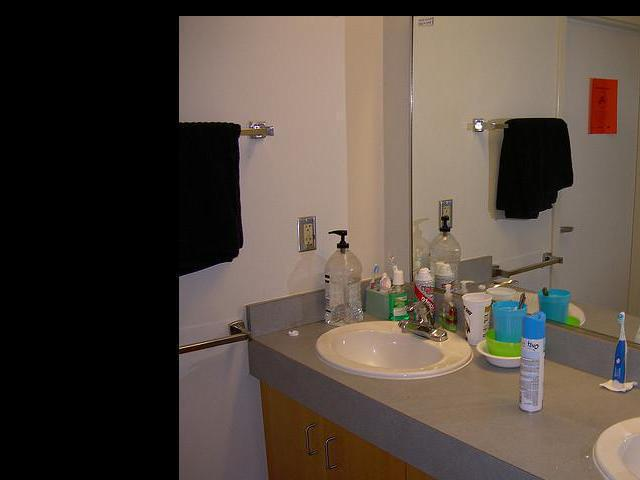Lavamanos: (310, 300, 468, 384), (593, 394, 640, 480)
